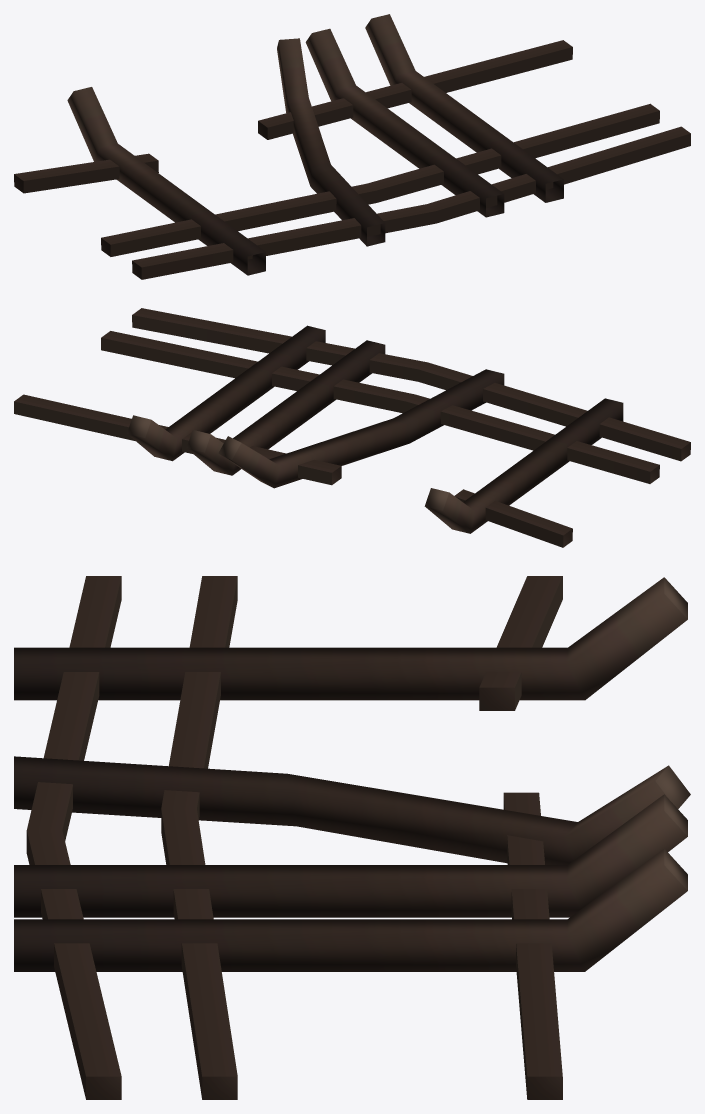
Rendered from Fence 05.FBX.
3 views of the same model, one above another, from view 1: azimuth 30°, elevation 25°; view 2: azimuth 150°, elevation 25°; view 3: azimuth 270°, elevation 25° (orthographic). The views are drawn at different scales.
Visible parts, largest first — view 1: Fence 05; view 2: Fence 05; view 3: Fence 05.
Boxes of the visible parts, x1,y1,x2,y2 form: Fence 05: [14, 14, 690, 279]; Fence 05: [14, 308, 690, 547]; Fence 05: [14, 576, 690, 1099].
Size of the model in its own units: 461 by 45.8 by 264.
1 material, 1 textured.
